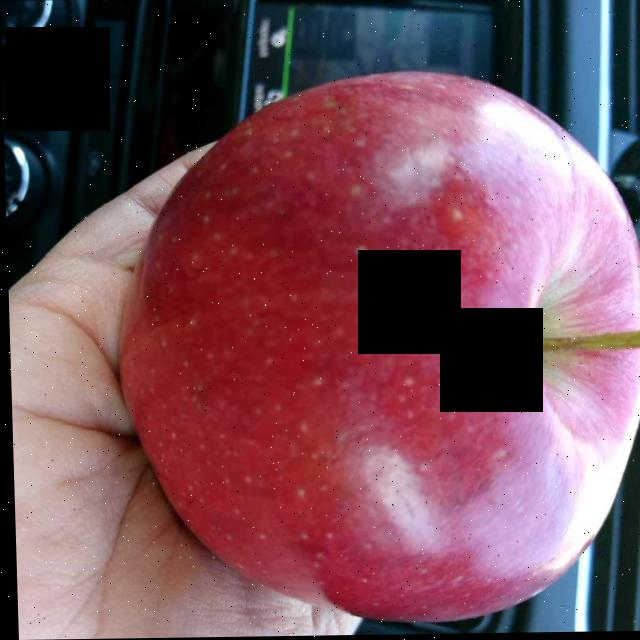apple: (128, 111, 634, 604)
